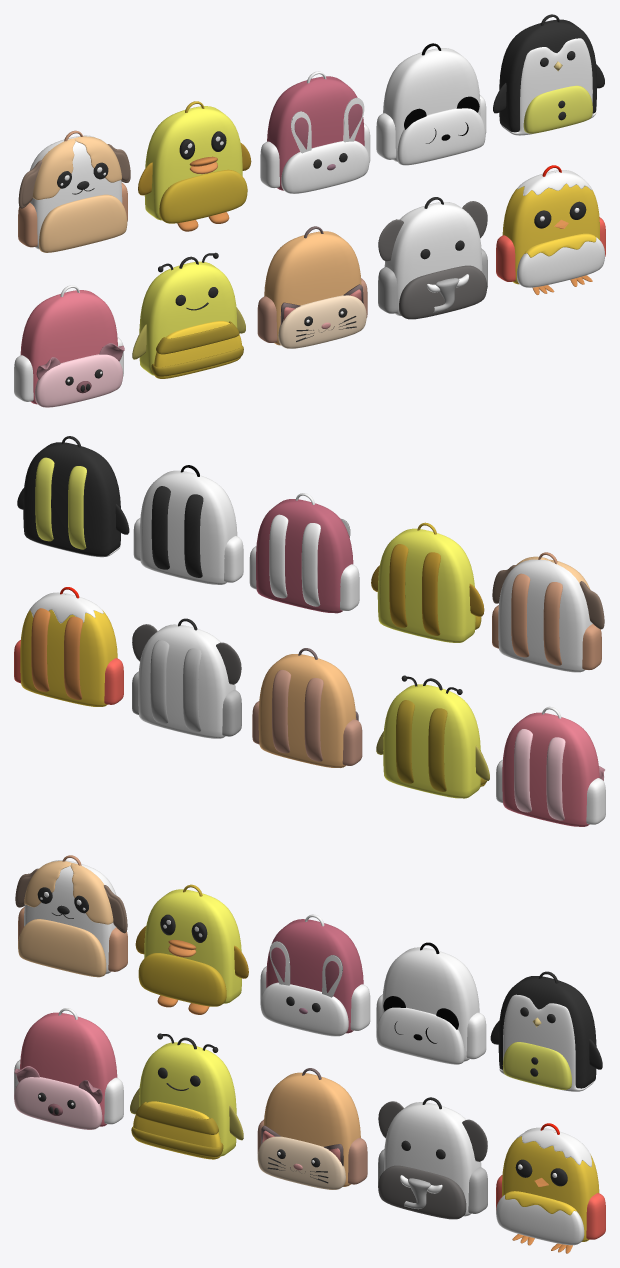
The picture shows the model from 3 angles, top to bottom: view 1: azimuth 30°, elevation 25°; view 2: azimuth 150°, elevation 25°; view 3: azimuth 330°, elevation 25°; orthographic projection.
Visible parts, largest first — view 1: Kubus.021_36, Kubus.045_66, Kubus.039_58, Kubus.030_78, Kubus.010_17, Kubus.004_11, Kubus_0, Kubus.054_85, Kubus.028_46, Kubus.003_10, Kubus.014_26, Kubus.009_16 (+25 smaller); view 2: Kubus.014_26, Kubus.021_36, Kubus.010_17, Kubus.039_58, Kubus_0, Kubus.004_11, Kubus.045_66, Kubus.030_78, Kubus.027_45, Kubus.054_85, Kubus.063_116, Kubus.040_105 (+28 smaller); view 3: Kubus.021_36, Kubus.045_66, Kubus.039_58, Kubus.030_78, Kubus.010_17, Kubus.004_11, Kubus_0, Kubus.054_85, Kubus.028_46, Kubus.003_10, Kubus.014_26, Kubus.009_16 (+25 smaller).
Boxes of the visible parts, x1,y1,x2,y2 form: Kubus.021_36: (139,261,237,375); Kubus.045_66: (264,231,361,345); Kubus.039_58: (20,290,117,404); Kubus.030_78: (384,202,482,315); Kubus.010_17: (144,106,242,220); Kubus.004_11: (383,48,480,161); Kubus_0: (267,76,364,190); Kubus.054_85: (502,184,599,284); Kubus.028_46: (39,194,127,252); Kubus.003_10: (397,108,485,165); Kubus.014_26: (499,19,596,132); Kubus.009_16: (159,169,247,223); Kubus.014_26: (23,442,120,556); Kubus.021_36: (383,684,480,798); Kubus.010_17: (377,528,475,642); Kubus.039_58: (502,712,599,826); Kubus_0: (256,499,353,613); Kubus.004_11: (140,470,237,584); Kubus.045_66: (258,654,356,767); Kubus.030_78: (138,624,235,738); Kubus.027_45: (498,559,592,672); Kubus.054_85: (20,609,117,706); Kubus.063_116: (304,678,323,761); Kubus.040_105: (543,582,562,665); Kubus.021_36: (139,1042,236,1156); Kubus.045_66: (263,1072,360,1186); Kubus.039_58: (20,1012,117,1126); Kubus.030_78: (384,1102,481,1216); Kubus.010_17: (144,889,241,1003); Kubus.004_11: (382,947,479,1061); Kubus_0: (266,919,363,1033); Kubus.054_85: (502,1136,599,1241); Kubus.028_46: (18,919,106,977); Kubus.003_10: (376,1007,464,1064); Kubus.014_26: (498,976,596,1088); Kubus.009_16: (138,953,226,1006).
Size of the model in its own units: 14.88 by 6.48 by 1.35.
